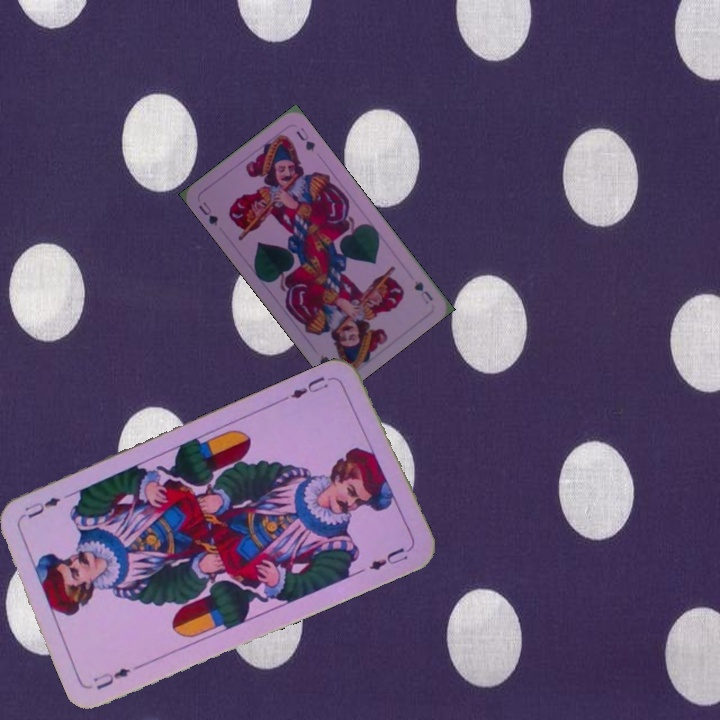EU: (89, 663, 133, 693), (287, 372, 331, 401)
GU: (194, 198, 221, 228), (410, 276, 436, 307)
